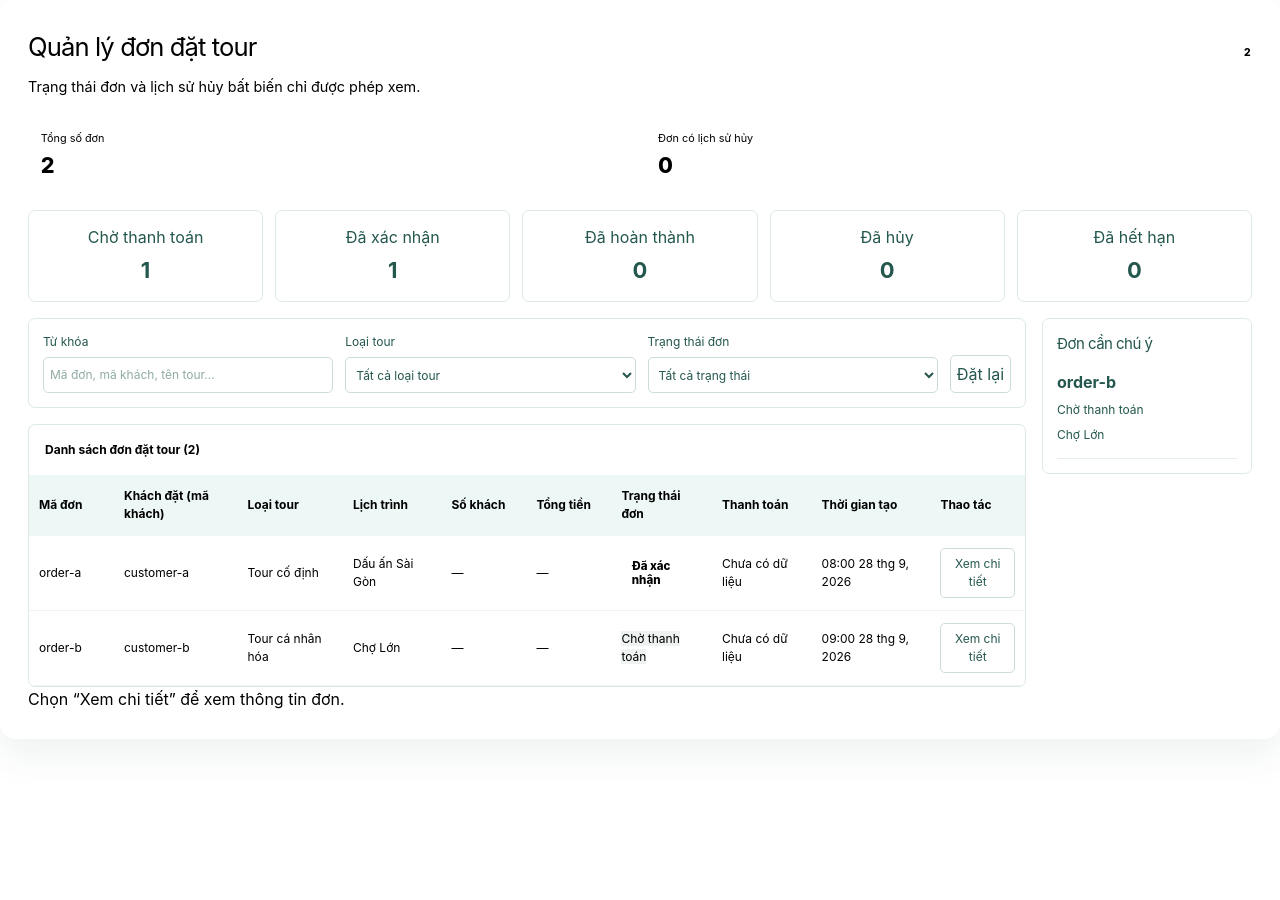
Test: filters runtime orders and opens the selected order without inventing payment data
Type "order-a" into the field labelled "Từ khóa". click: (188, 375)
box: [43,357,333,393]
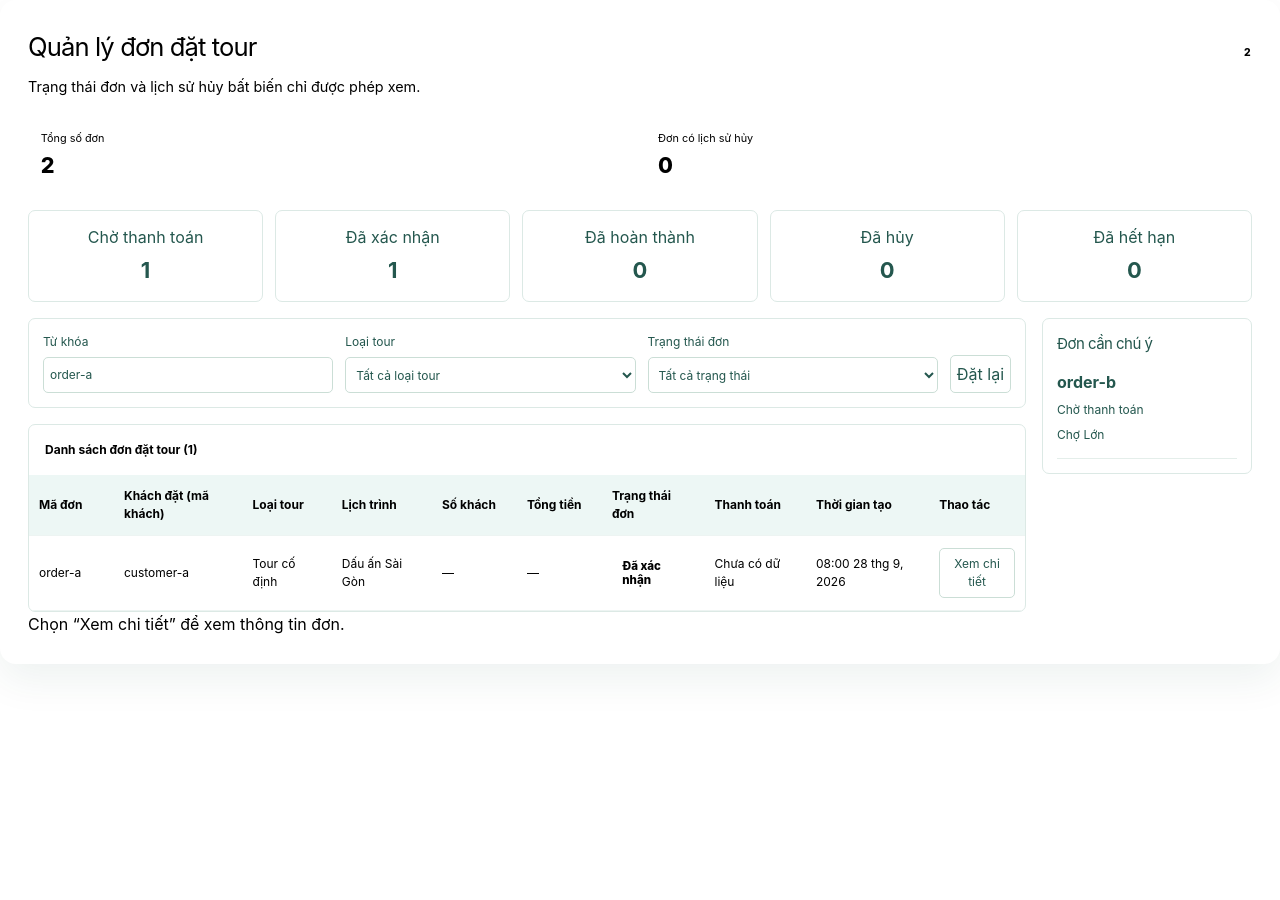
Click the button with aria-label "Xem chi tiết order-a". click: click(977, 573)
box: [939,548,1015,598]
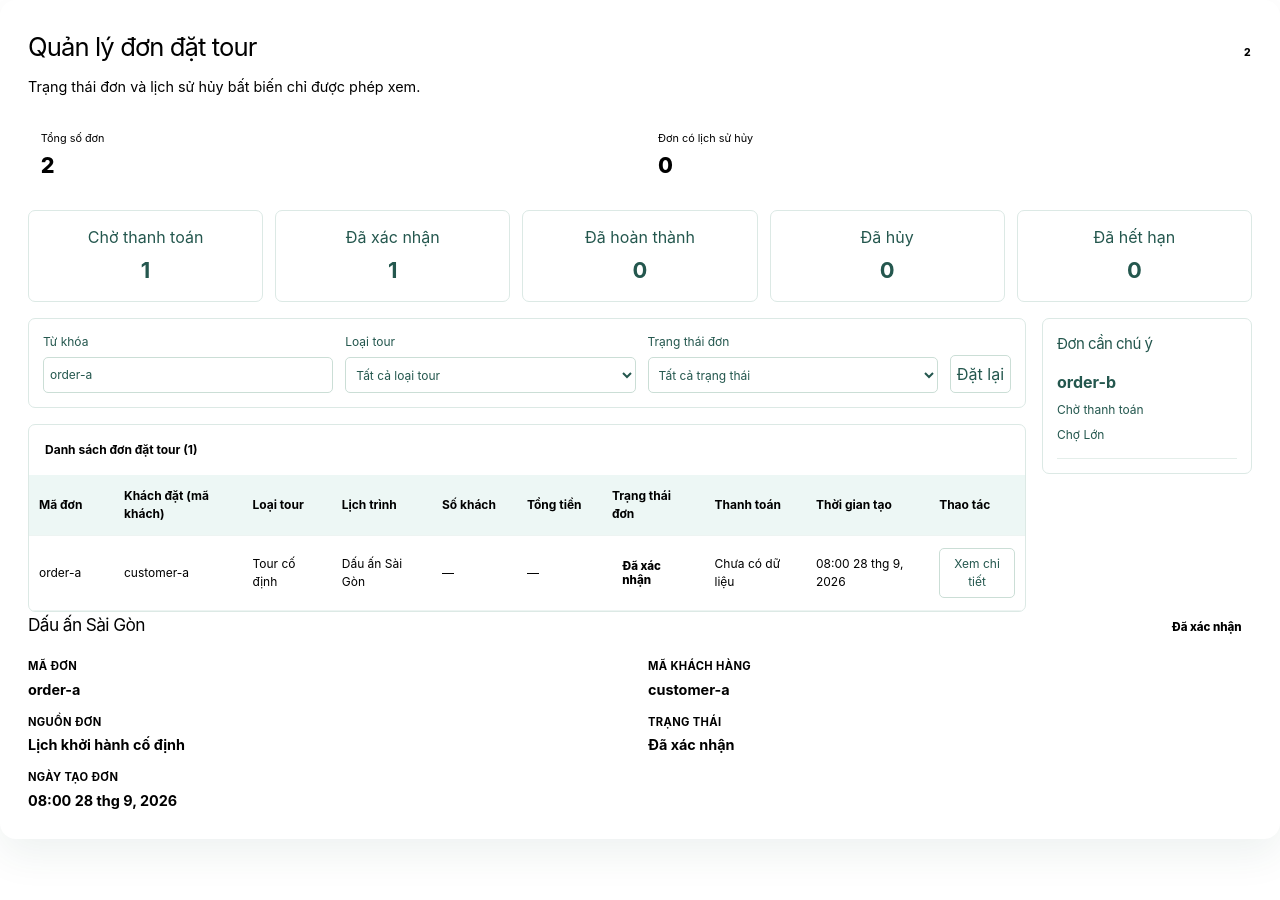
Expected: the element named "Chi tiết đơn đang chọn" shows "customer-a", [648,681,730,698]
